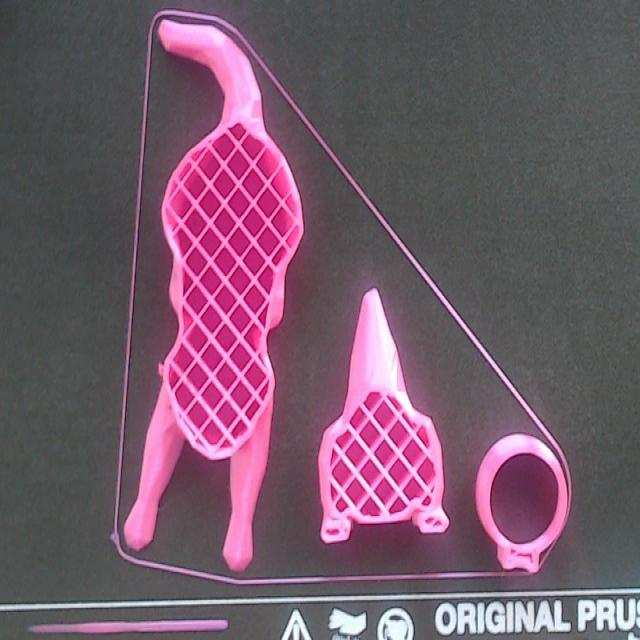mistake: (158, 363, 163, 376)
